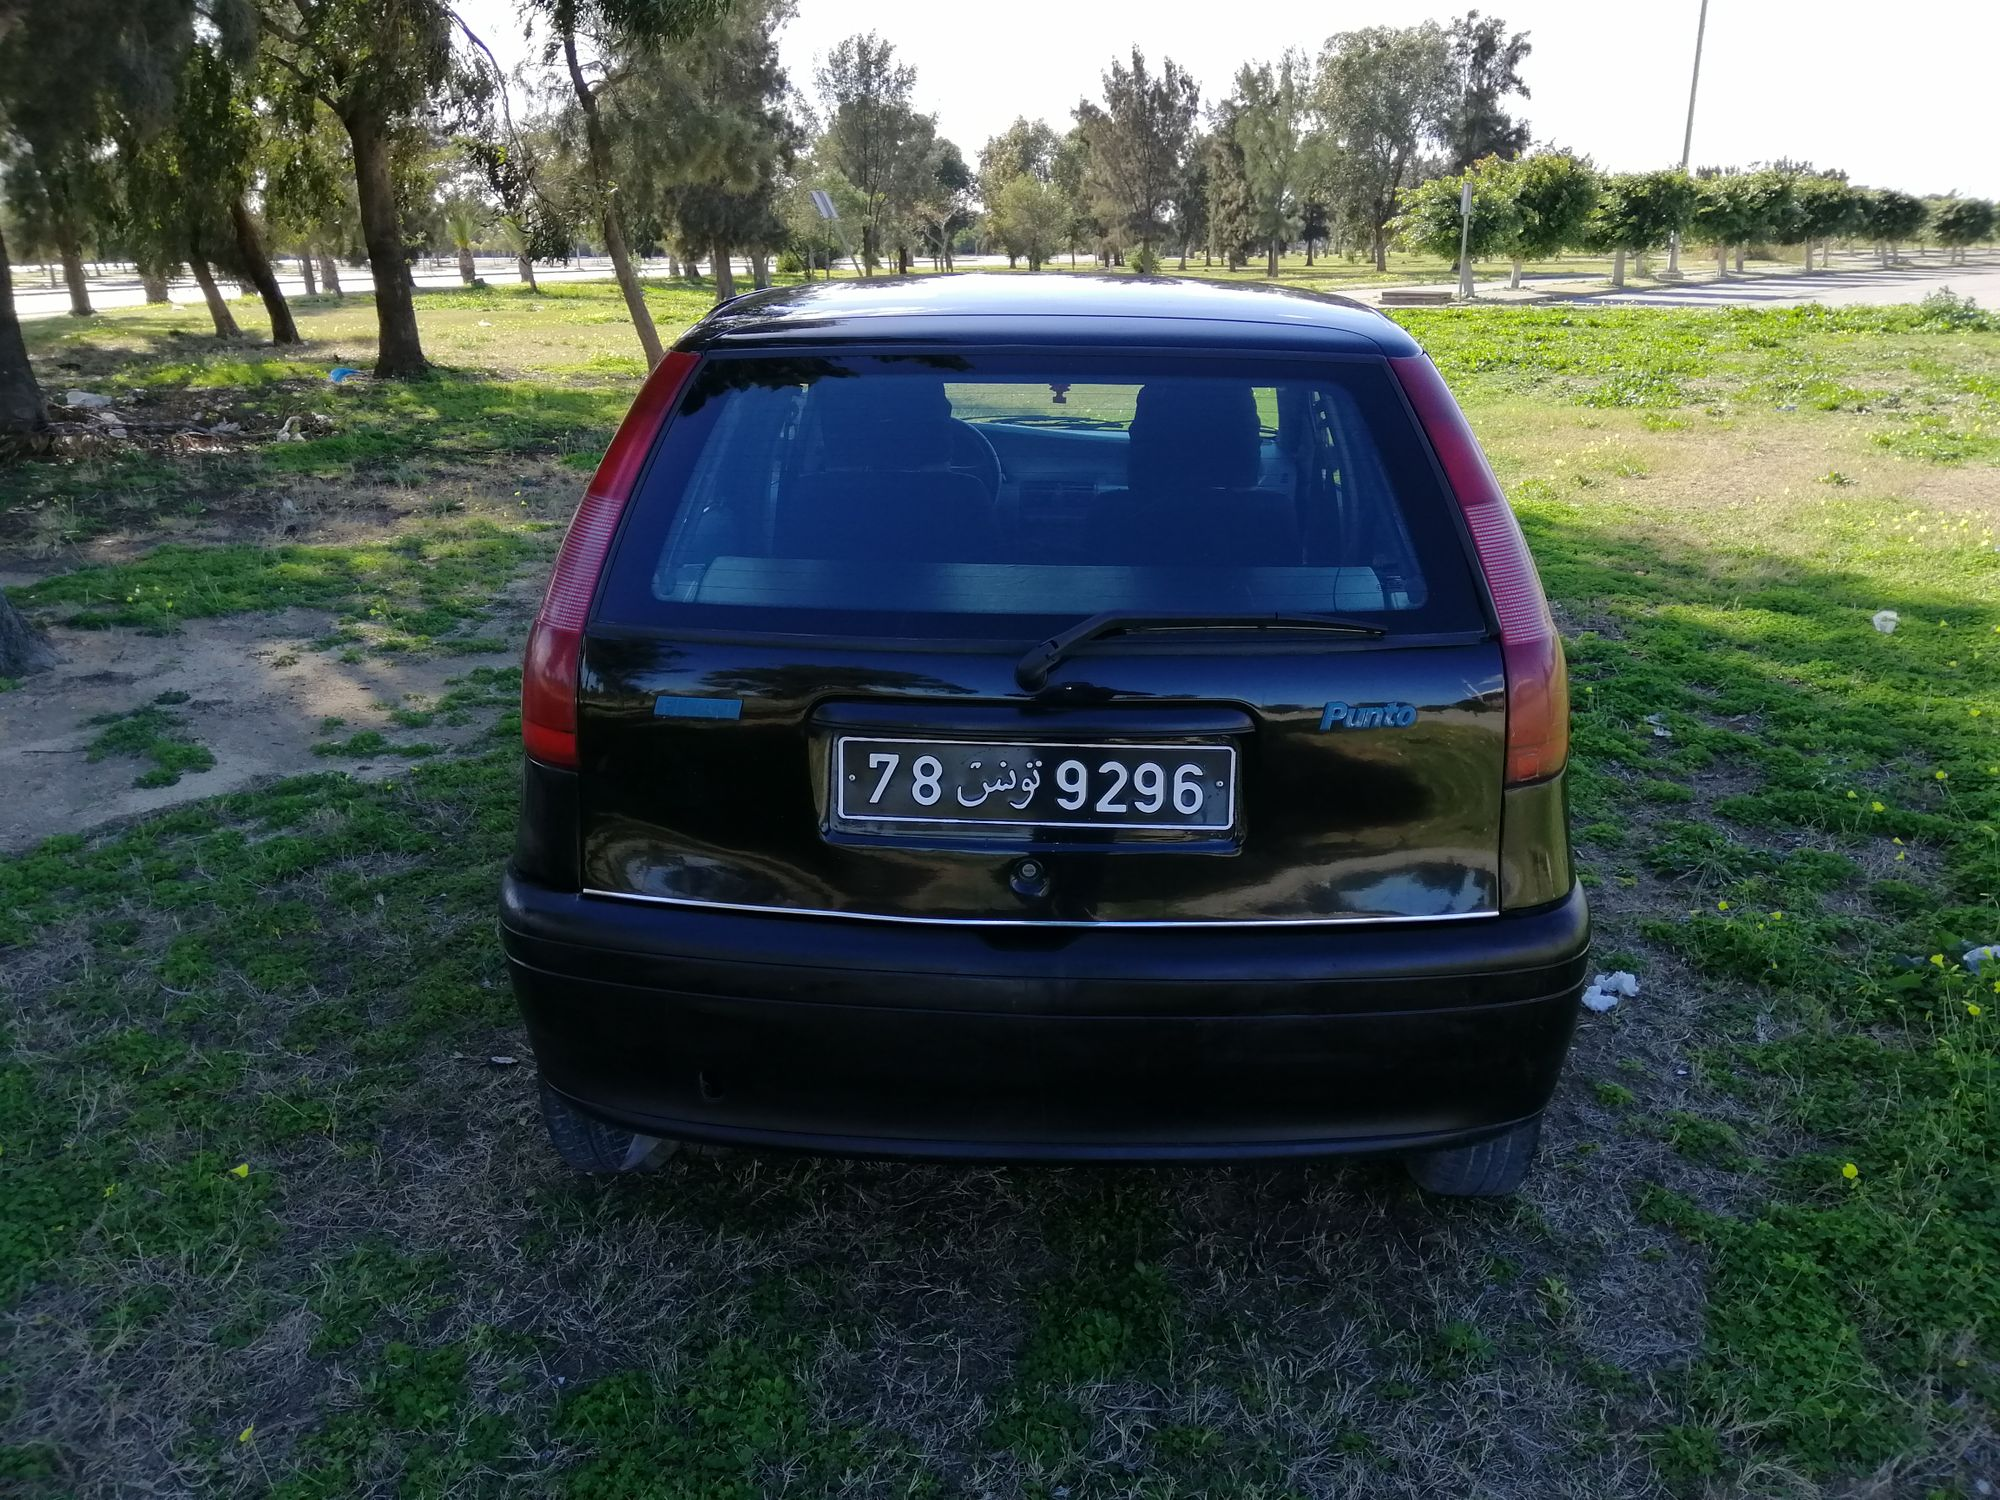LP: (836, 734, 1242, 835)
